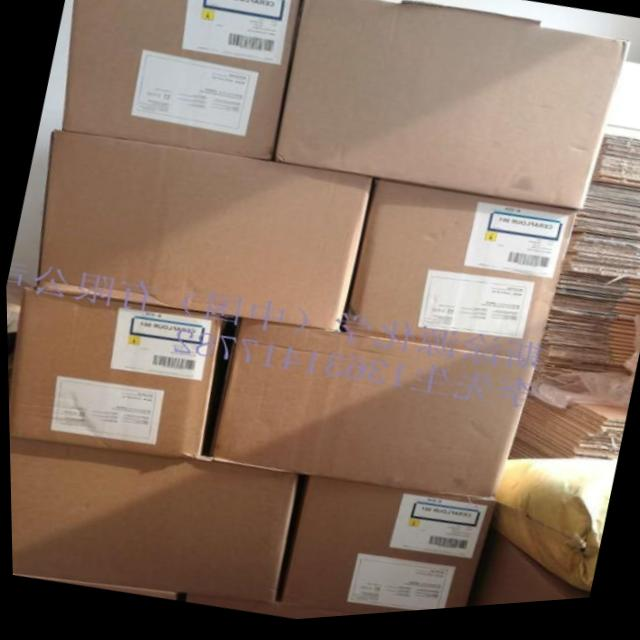box: (273, 0, 631, 220), (35, 129, 371, 337), (207, 323, 534, 507), (8, 437, 295, 606), (340, 183, 576, 369), (61, 0, 301, 165), (7, 287, 223, 461), (276, 479, 491, 620)
